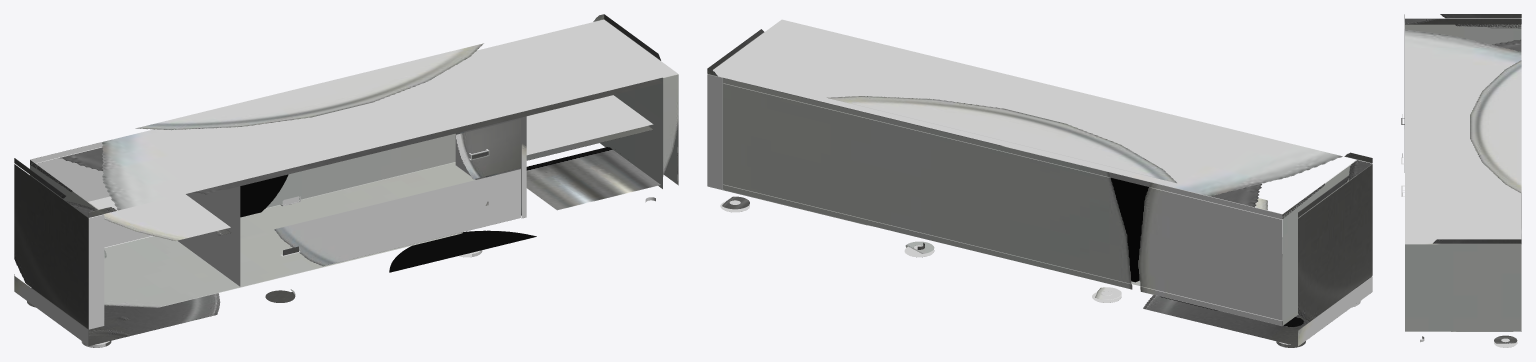
3 renders of one model, left to right at view 1: azimuth 30°, elevation 25°; view 2: azimuth 150°, elevation 25°; view 3: azimuth 270°, elevation 25°, orthographic. The views are drawn at different scales.
Visible parts, largest first — view 1: solid_002, solid_001; view 2: solid_002, solid_001; view 3: solid_002, solid_001.
Boxes of the visible parts, x1,y1,x2,y2 form: solid_002: (14,14,678,345); solid_001: (27,149,655,347); solid_002: (707,19,1372,346); solid_001: (720,196,1360,347); solid_002: (1404,14,1521,331); solid_001: (1401,114,1517,347).
Bounding box in the file's own units: 2 × 0.4558 × 0.4511.
